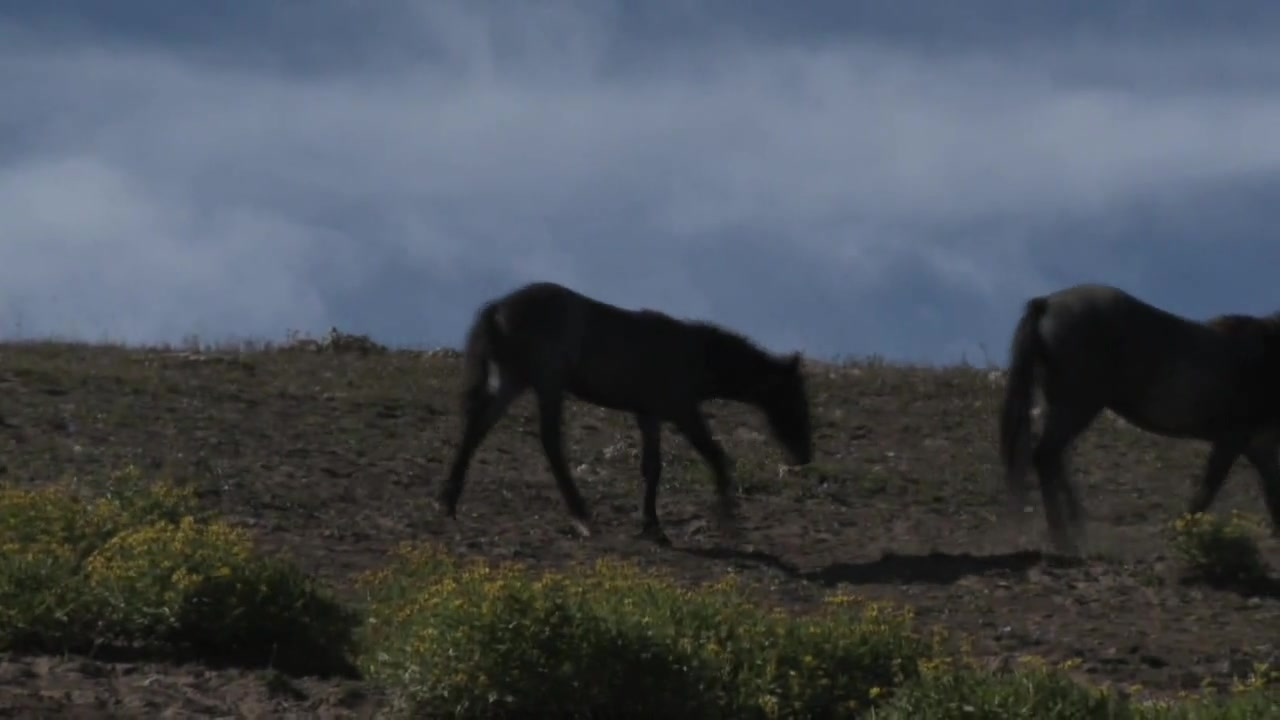horse: (436, 280, 821, 548), (1000, 280, 1280, 567)
